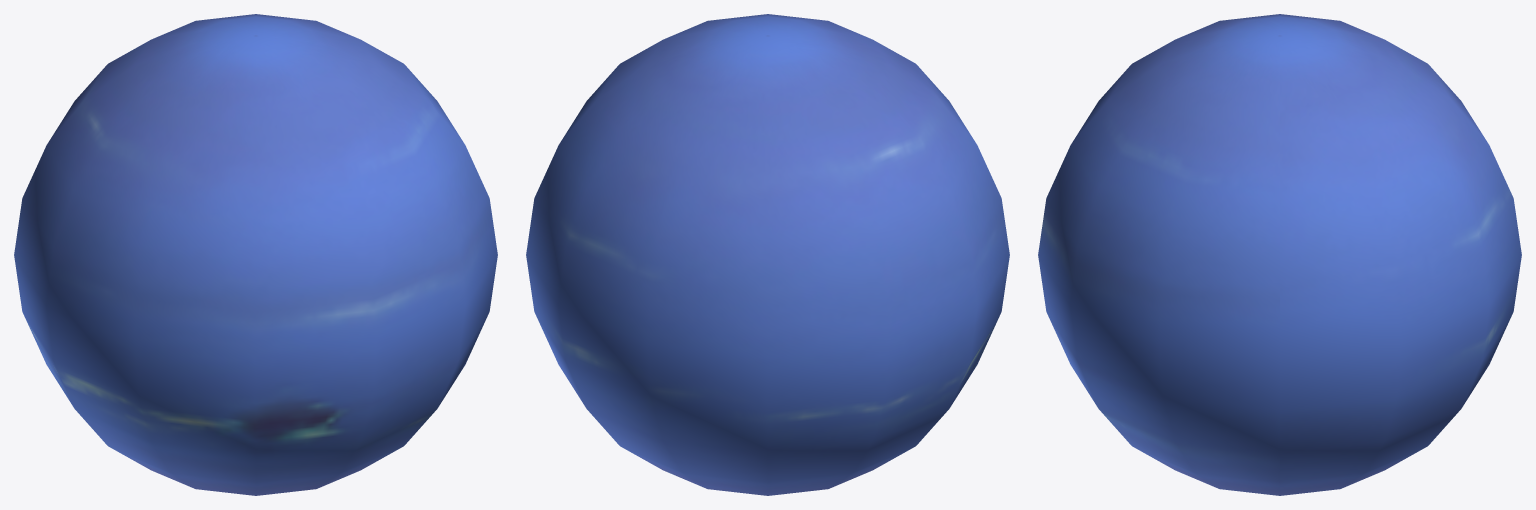
Rendered from neptune.obj.
3 views of the same model, side by side, from view 1: azimuth 30°, elevation 25°; view 2: azimuth 150°, elevation 25°; view 3: azimuth 270°, elevation 25° (orthographic).
Visible parts, largest first — view 1: Sphere04; view 2: Sphere04; view 3: Sphere04.
Boxes of the visible parts, x1=… form: Sphere04: x1=14, y1=14, x2=497, y2=495; Sphere04: x1=526, y1=14, x2=1009, y2=495; Sphere04: x1=1038, y1=14, x2=1521, y2=495.
Bounding box in the file's own units: 40.5 × 40.5 × 40.5.
